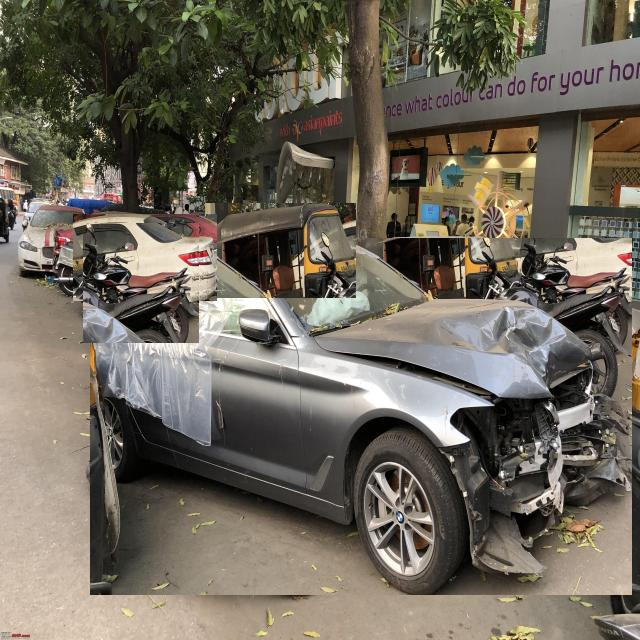accident: (90, 238, 632, 595)
autorickshaw: (205, 204, 356, 298)
car: (74, 215, 217, 301), (19, 205, 86, 277)
motorcycle: (95, 233, 241, 397), (84, 224, 199, 343)
